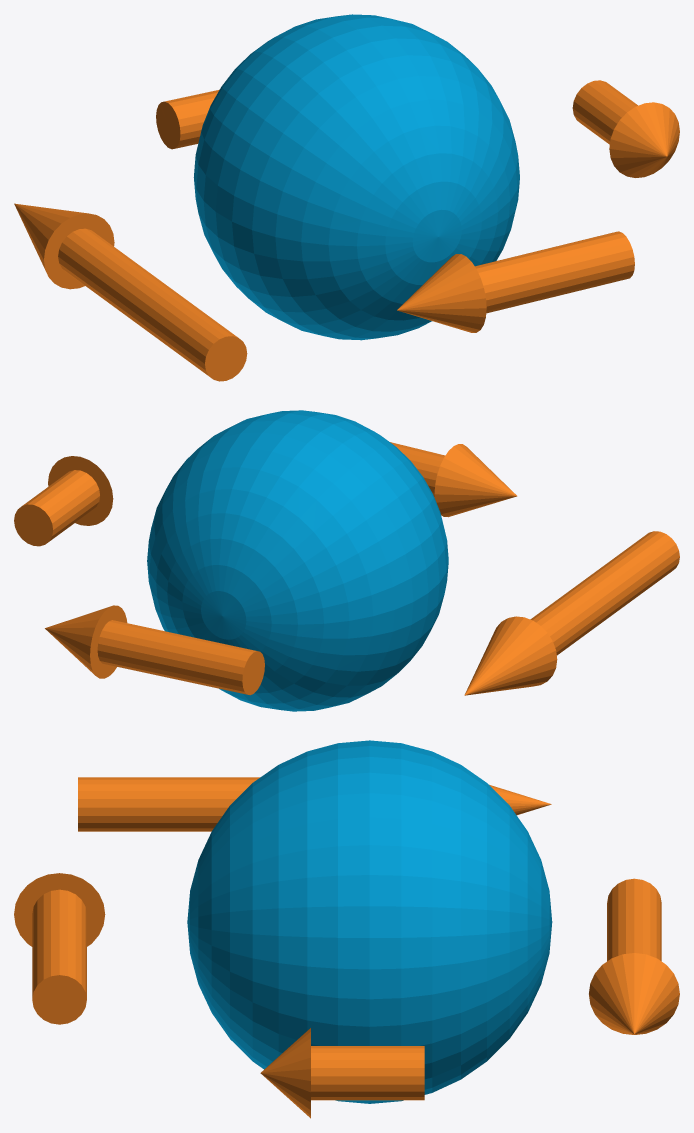
The model's file is Non-uniform.obj.
3 renders of one model, top to bottom at view 1: azimuth 30°, elevation 25°; view 2: azimuth 150°, elevation 25°; view 3: azimuth 270°, elevation 25°, orthographic. The views are drawn at different scales.
Visible parts, largest first — view 1: group_0_40919, group_0_16089887; view 2: group_0_40919, group_0_16089887; view 3: group_0_40919, group_0_16089887.
Boxes of the visible parts, left/top/right/bottom form: group_0_40919: left=193, top=14, right=519, bottom=340; group_0_16089887: left=14, top=80, right=679, bottom=381; group_0_40919: left=147, top=410, right=448, bottom=711; group_0_16089887: left=14, top=442, right=679, bottom=695; group_0_40919: left=187, top=740, right=552, bottom=1103; group_0_16089887: left=14, top=777, right=679, bottom=1118.
Bounding box in the file's own units: 42 × 20 × 36.5.
